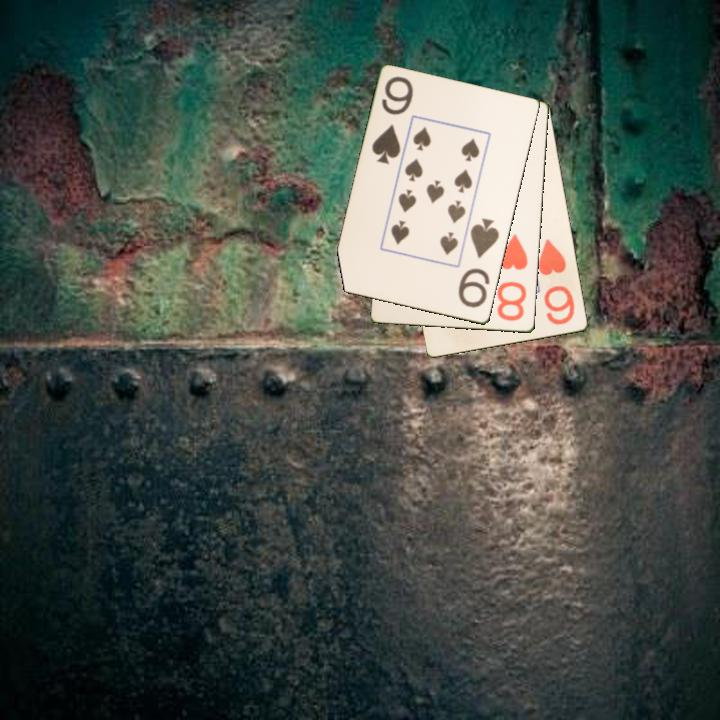6h: (535, 235, 578, 328)
8h: (494, 231, 531, 324)
9s: (455, 215, 502, 311), (368, 73, 416, 167)
